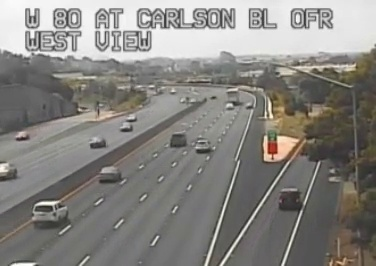car: (31, 200, 67, 224), (278, 189, 300, 209), (98, 166, 119, 181), (170, 132, 185, 147), (194, 139, 209, 152)
